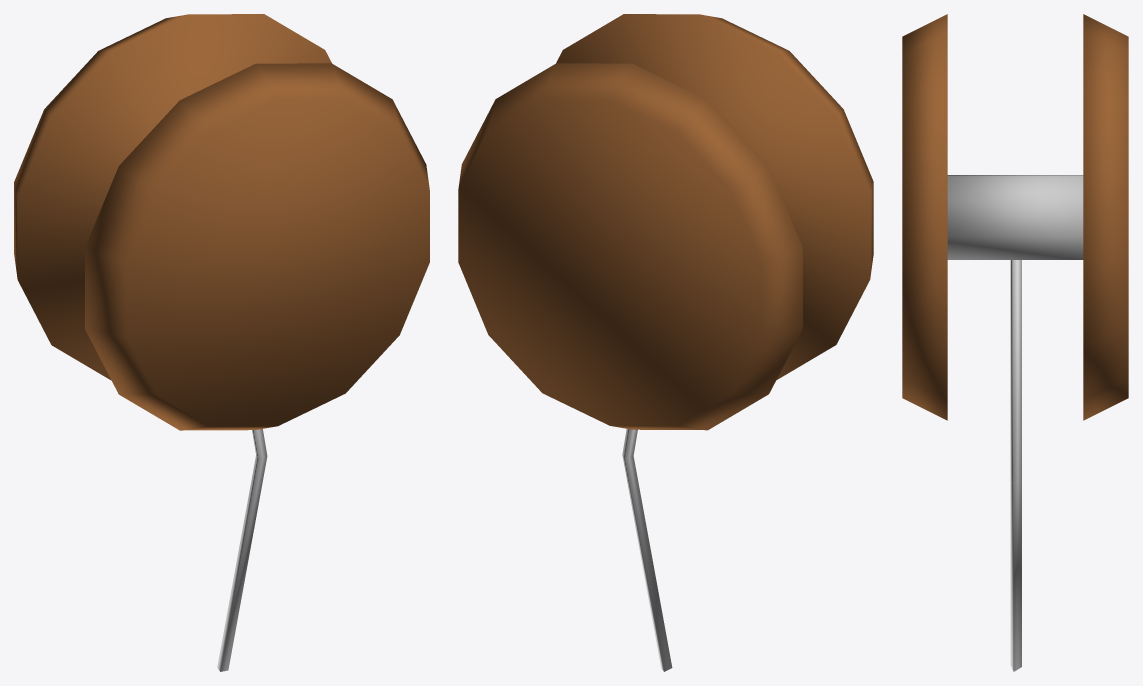
The model's file is wood_yoyo.glb.
The picture shows the model from 3 angles, left to right: view 1: azimuth 30°, elevation 25°; view 2: azimuth 150°, elevation 25°; view 3: azimuth 270°, elevation 25°; orthographic projection.
Parts seen in each view (by area): view 1: wood_yoyo_v0; view 2: wood_yoyo_v0; view 3: wood_yoyo_v0.
Boxes of the visible parts, left/top/right/bottom form: wood_yoyo_v0: left=14, top=14, right=429, bottom=671; wood_yoyo_v0: left=458, top=14, right=873, bottom=671; wood_yoyo_v0: left=902, top=14, right=1128, bottom=671.
Size of the model in its own units: 0.1755 by 0.3106 by 0.1.
